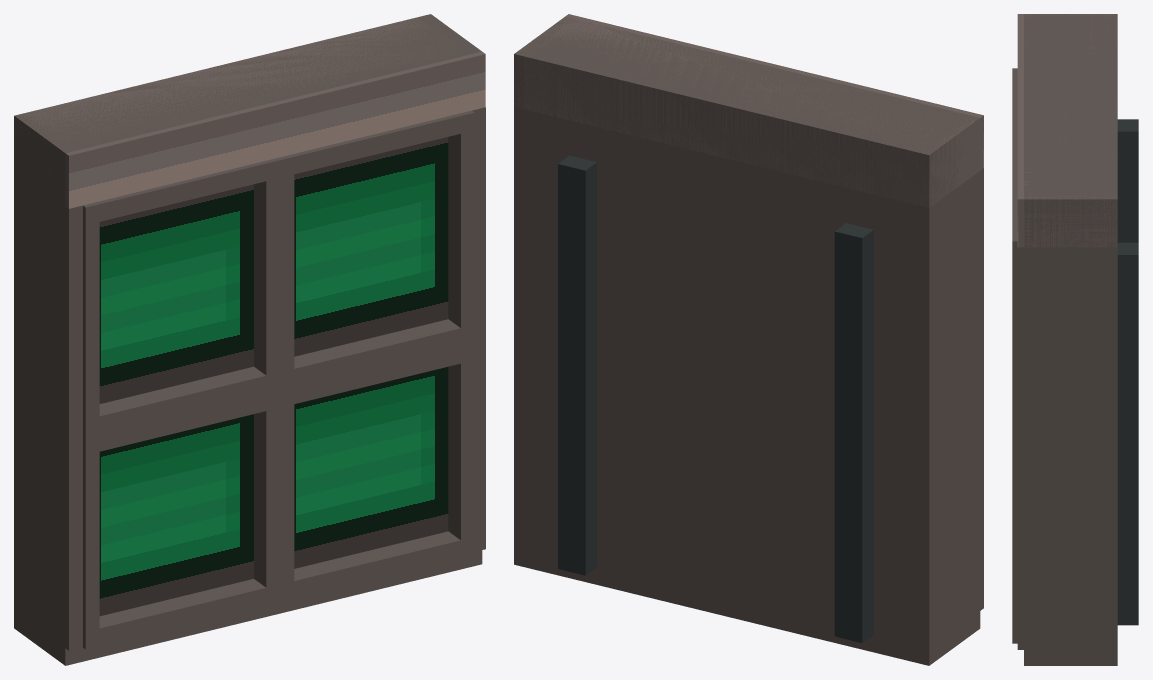
File: CMU3DMultiMonitorBigCloudEast.glb
The picture shows the model from 3 angles, left to right: view 1: azimuth 30°, elevation 25°; view 2: azimuth 150°, elevation 25°; view 3: azimuth 270°, elevation 25°; orthographic projection. The views are drawn at different scales.
Parts seen in each view (by area): view 1: display 1 recessed inset original face, display 2 recessed inset original face, display 4 recessed inset original face, display 3 recessed inset original face, full depth left chassis, upper horizontal casing original face, left outer steel stile, cabinet roof, upper horizontal casing, display 3 lower frame, display 4 lower frame, display 2 lower frame (+19 smaller); view 2: rear cabinet wall, left outer steel stile, upper horizontal casing, full depth left chassis, rear left mounting batten, cabinet roof, rear right mounting batten, central vertical display divider, full depth right chassis, central horizontal display divider, right outer steel stile; view 3: full depth right chassis, right outer steel stile, cabinet roof, rear right mounting batten, upper horizontal casing, rear cabinet wall, rear left mounting batten, display 2 right frame, display 4 right frame, full depth left chassis, display 2 upper frame, display 1 upper frame (+1 smaller).
Part boxes in pixels (x1,y1,x2,y2): display 1 recessed inset original face: [99, 184, 253, 403]; display 2 recessed inset original face: [294, 137, 448, 356]; display 4 recessed inset original face: [294, 367, 448, 568]; display 3 recessed inset original face: [99, 414, 253, 616]; full depth left chassis: [14, 112, 79, 665]; upper horizontal casing original face: [68, 54, 485, 208]; left outer steel stile: [14, 169, 82, 650]; cabinet roof: [37, 24, 467, 149]; upper horizontal casing: [14, 14, 484, 208]; display 3 lower frame: [83, 579, 280, 649]; display 4 lower frame: [280, 531, 474, 601]; display 2 lower frame: [280, 319, 474, 389]; rear cabinet wall: [528, 51, 923, 662]; left outer steel stile: [915, 168, 983, 648]; upper horizontal casing: [514, 14, 983, 207]; full depth left chassis: [915, 114, 980, 665]; rear left mounting batten: [834, 223, 873, 643]; cabinet roof: [537, 20, 965, 145]; rear right mounting batten: [558, 155, 596, 575]; central vertical display divider: [707, 154, 735, 600]; full depth right chassis: [514, 16, 577, 567]; central horizontal display divider: [528, 321, 914, 450]; right outer steel stile: [514, 107, 527, 549]; full depth right chassis: [1024, 193, 1117, 665]; right outer steel stile: [1017, 247, 1117, 649]; cabinet roof: [1024, 20, 1101, 192]; rear right mounting batten: [1117, 242, 1138, 625]; upper horizontal casing: [1018, 14, 1117, 247]; rear cabinet wall: [1101, 20, 1117, 192]; rear left mounting batten: [1117, 119, 1138, 242]; display 2 right frame: [1012, 257, 1017, 434]; display 4 right frame: [1012, 466, 1017, 627]; full depth left chassis: [1024, 14, 1117, 20]; display 2 upper frame: [1012, 155, 1017, 257]; display 1 upper frame: [1012, 68, 1017, 154].
Size of the model in its own units: 0.9375 by 1.1 by 0.27.
Materials: 8 (4 with a texture image).
